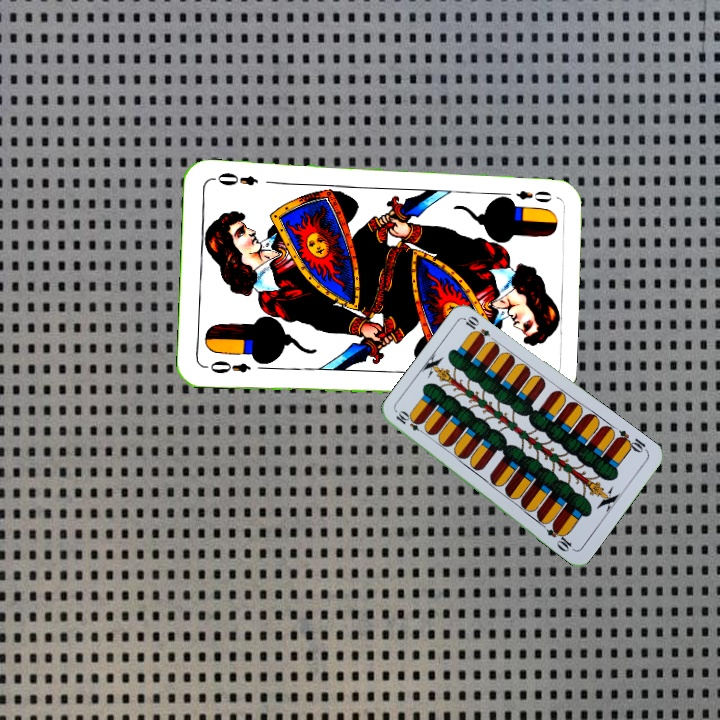E10: (612, 426, 650, 456), (392, 408, 429, 437)
EO: (498, 186, 555, 206), (201, 356, 253, 377)
